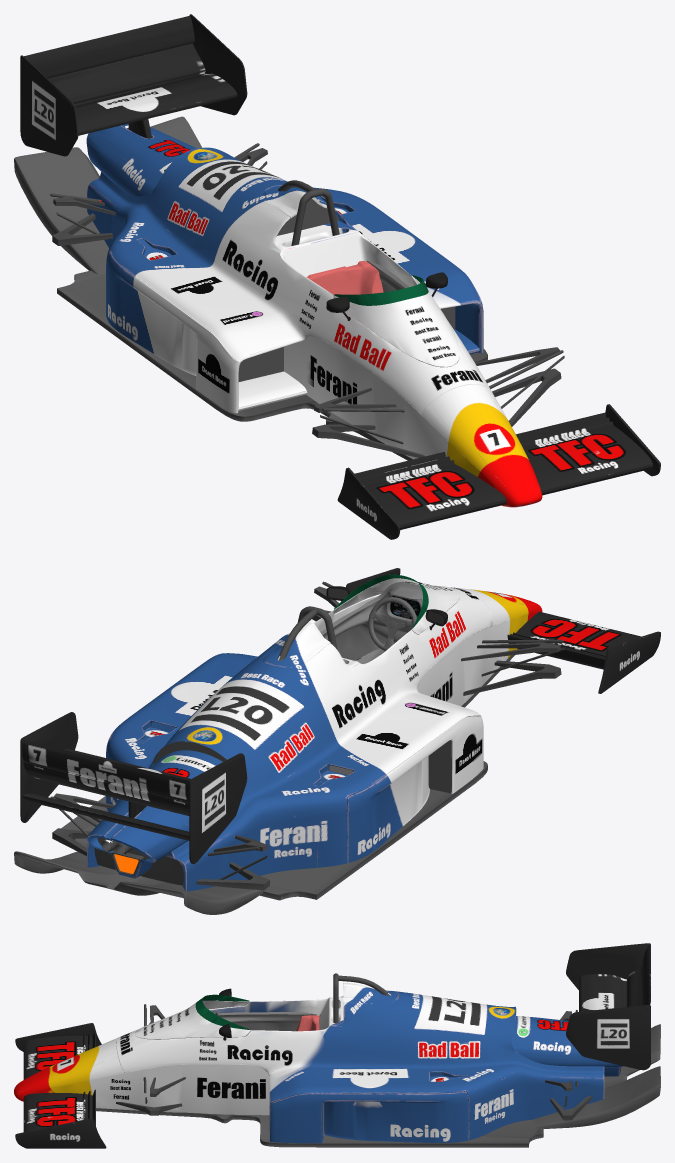
3 views of the same model, one above another, from view 1: azimuth 30°, elevation 25°; view 2: azimuth 150°, elevation 25°; view 3: azimuth 270°, elevation 25° (orthographic). The views are drawn at different scales.
Visible parts, largest first — view 1: F1; view 2: F1; view 3: F1.
Boxes of the visible parts, x1,y1,x2,y2 form: F1: (14,14,660,539); F1: (14,568,660,914); F1: (14,943,660,1148).
Bounding box in the file's own units: 181 × 111 × 515.
